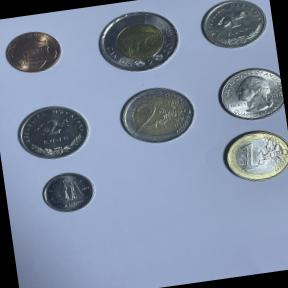1 Euro: (215, 122, 288, 188)
2 Euro: (110, 79, 204, 152)
Canda-10cent-: (33, 166, 104, 220)
Canda-2Dollar-: (88, 1, 188, 81)
Croatia-2Kune-: (9, 98, 98, 165)
US-1cent-: (0, 25, 66, 79)
US-25cent-: (210, 61, 286, 128)
